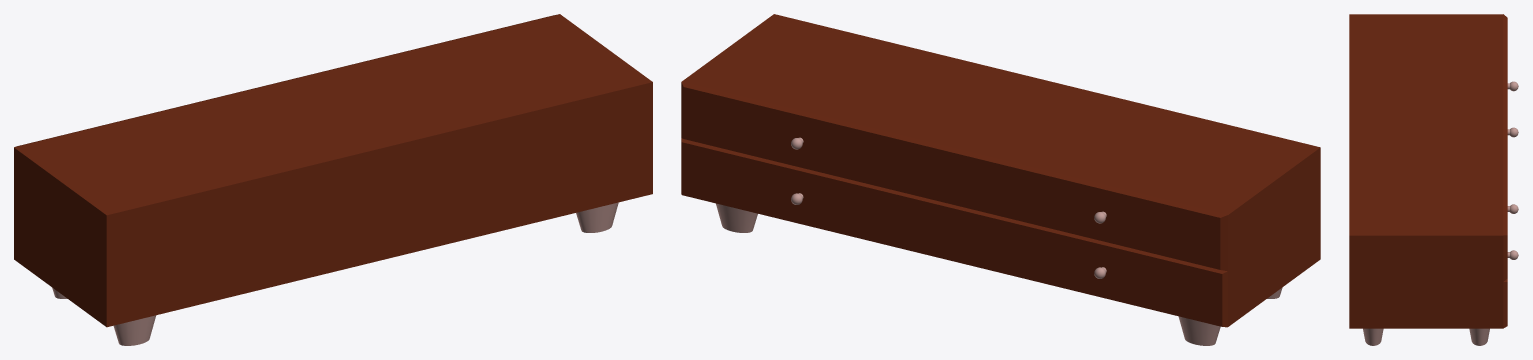
Rendered from Kommode_klein.fbx.
3 views of the same model, side by side, from view 1: azimuth 30°, elevation 25°; view 2: azimuth 150°, elevation 25°; view 3: azimuth 270°, elevation 25° (orthographic). The views are drawn at different scales.
Parts seen in each view (by area): view 1: polySurface1; view 2: polySurface1; view 3: polySurface1.
Part boxes in pixels (x1,y1,x2,y2): polySurface1: (14,14,652,345); polySurface1: (681,14,1320,345); polySurface1: (1349,14,1518,345).
Bounding box in the file's own units: 293 × 75.06 × 94.56.
